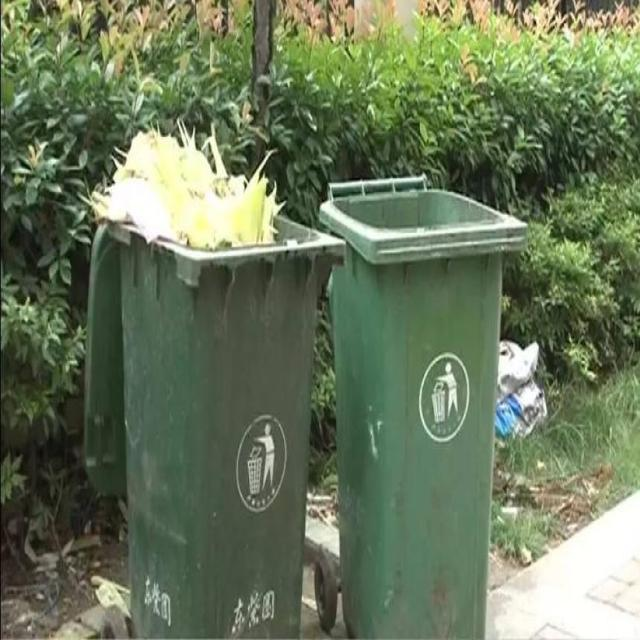garbage_bin: (319, 174, 526, 639)
overflow: (83, 125, 345, 639)
